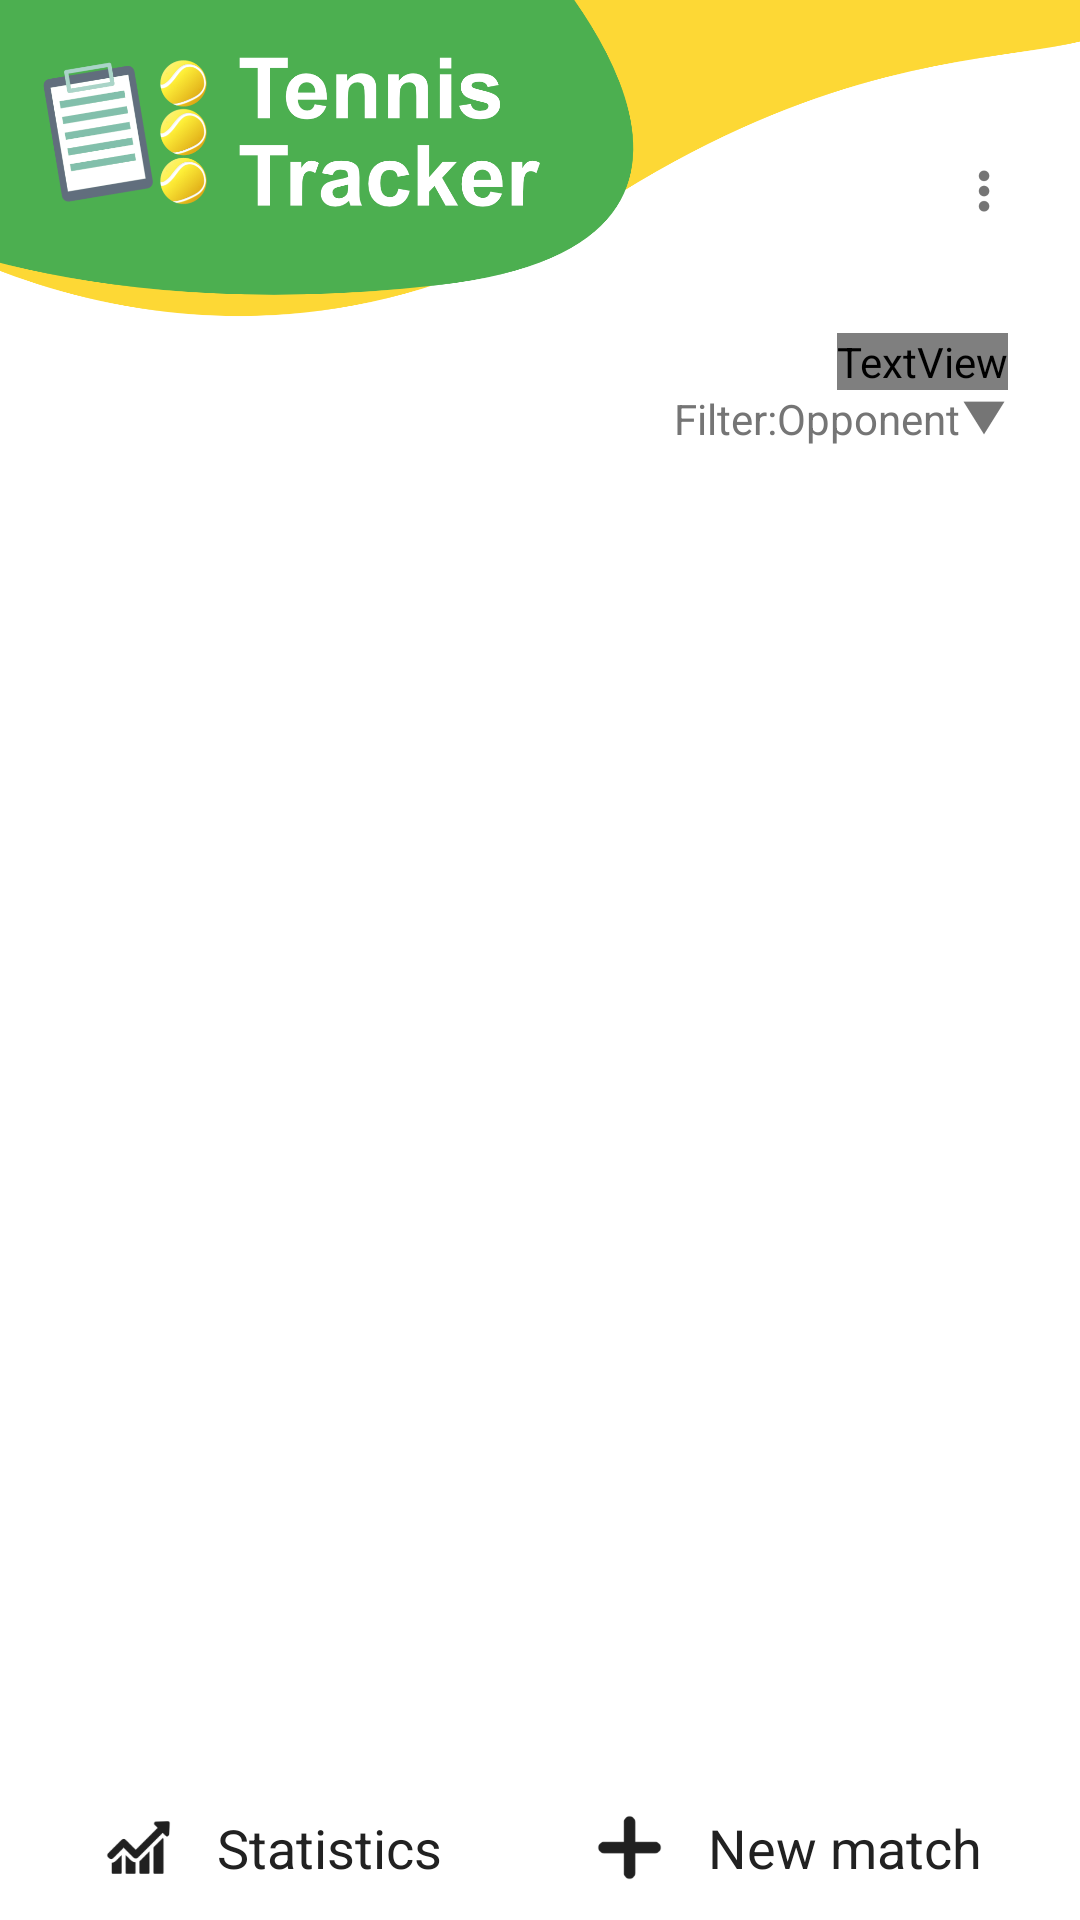

Where to tap for icons on this 1080 × 1920 app screen, as point (x, y):
Line graphic image: point (138, 1847)
Triangle down img: point (984, 417)
